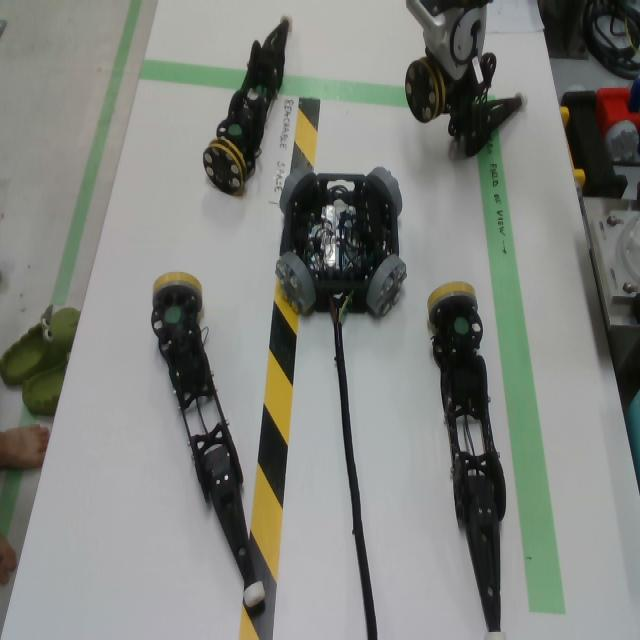body: (280, 173, 399, 315)
body_connector: (275, 252, 316, 315), (367, 255, 407, 317), (280, 165, 316, 213), (368, 167, 403, 215)
gripper: (423, 5, 487, 112)
leg: (151, 272, 265, 609), (427, 281, 507, 640), (203, 11, 293, 195), (405, 53, 530, 157)
leg_connector: (405, 57, 446, 123), (203, 137, 247, 196), (427, 281, 479, 324), (152, 272, 204, 312)
leg_marker: (165, 307, 181, 324), (455, 317, 469, 333), (228, 124, 242, 135)
